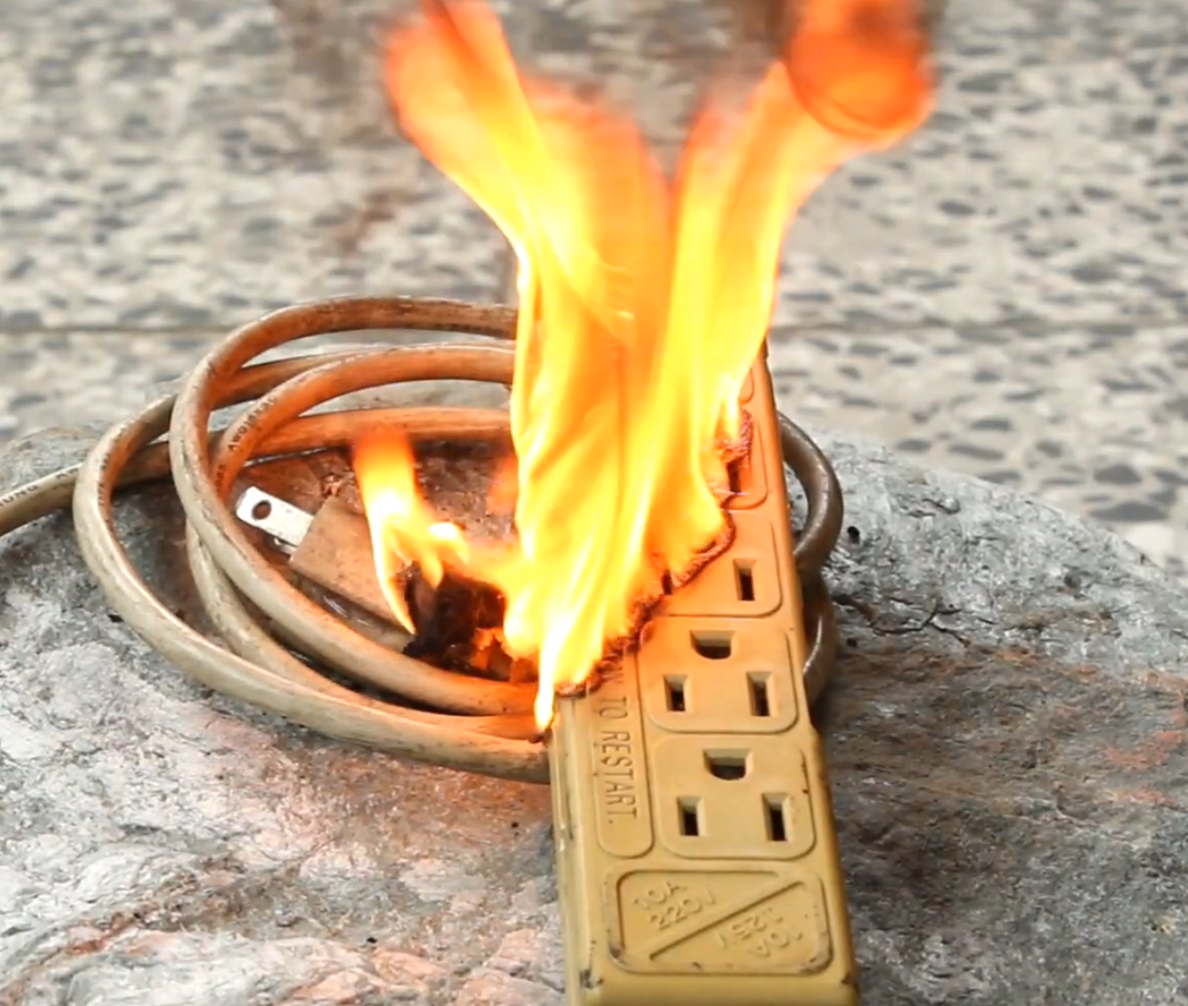Fire: (331, 1, 952, 754)
